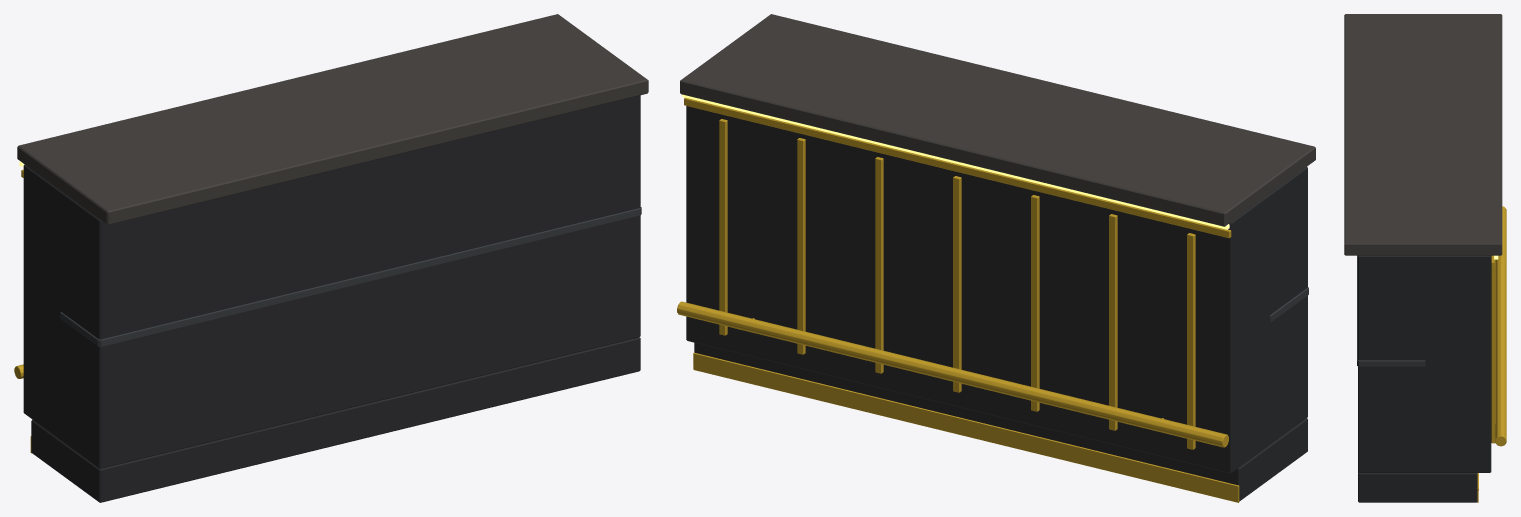
The model's file is prop_ah_bar_counter_2m.glb.
3 views of the same model, side by side, from view 1: azimuth 30°, elevation 25°; view 2: azimuth 150°, elevation 25°; view 3: azimuth 270°, elevation 25° (orthographic). The views are drawn at different scales.
Parts seen in each view (by area): view 1: Body; view 2: Body; view 3: Body.
Part boxes in pixels (x1,y1,x2,y2): Body: (14, 14, 648, 502); Body: (677, 14, 1315, 502); Body: (1344, 14, 1506, 502).
Bounding box in the file's own units: 2.01 × 1.05 × 0.5959.
